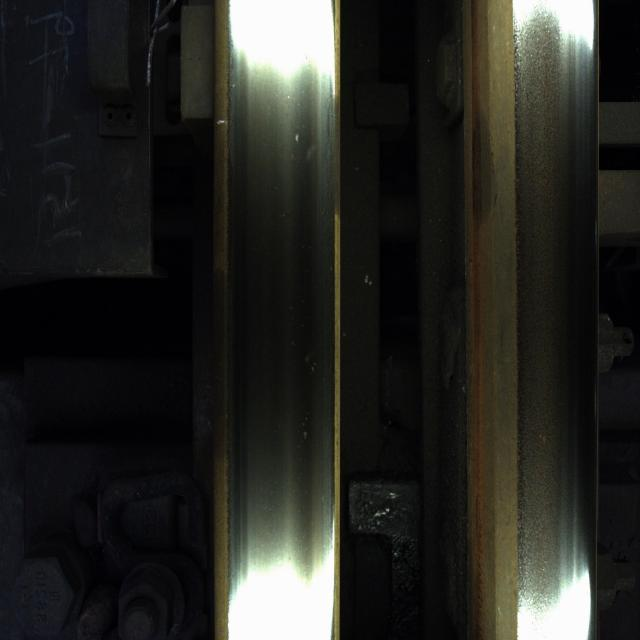break: (220, 55, 320, 589)
